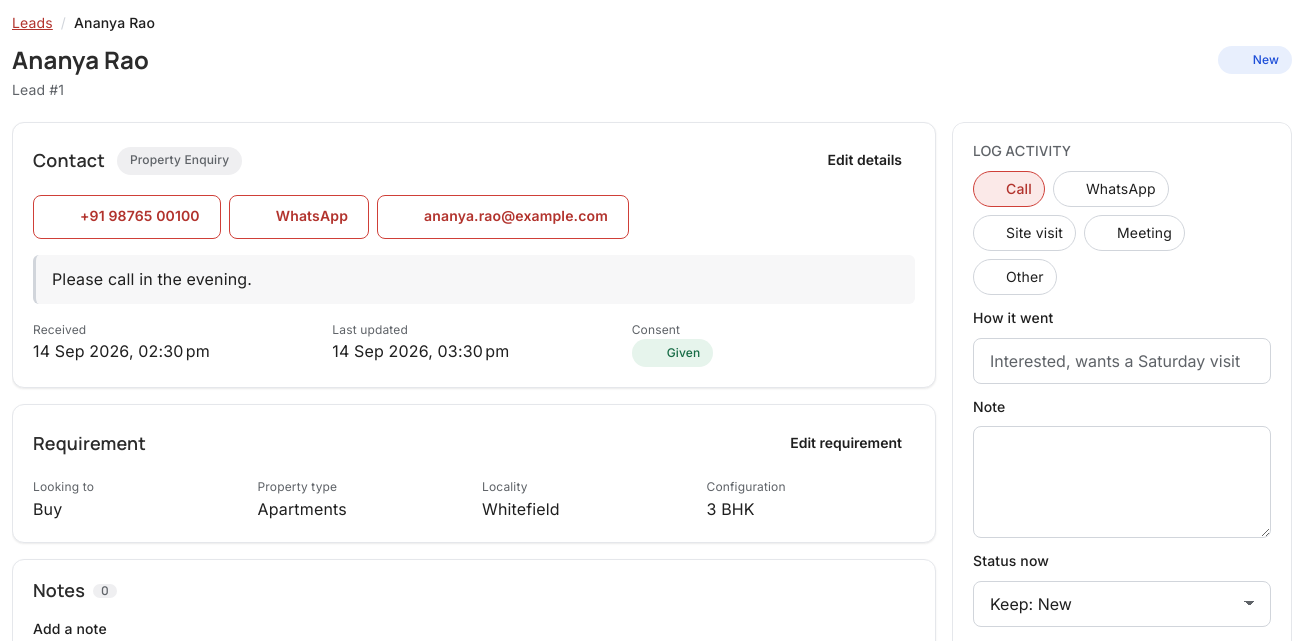
Test case: LeadDetailPage › corrects a mistyped number, sending only what changed
This screenshot has width=1292, height=641.
Expected: the heading "Ananya Rao" is shown, [12,46,149,75]
Click the button "Edit details" at (853, 161), box [791,143,915,179]
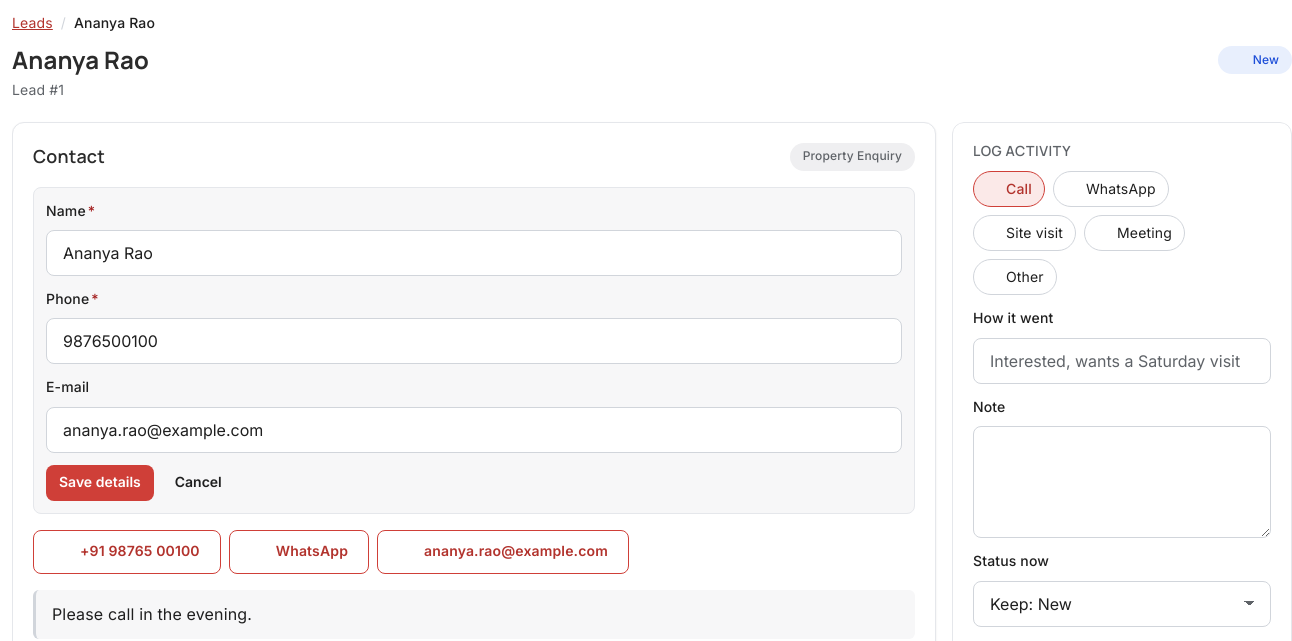
Replace the text in the field labelled "Phone*" with "98765 00199" at (474, 341), box [46,318,902,364]
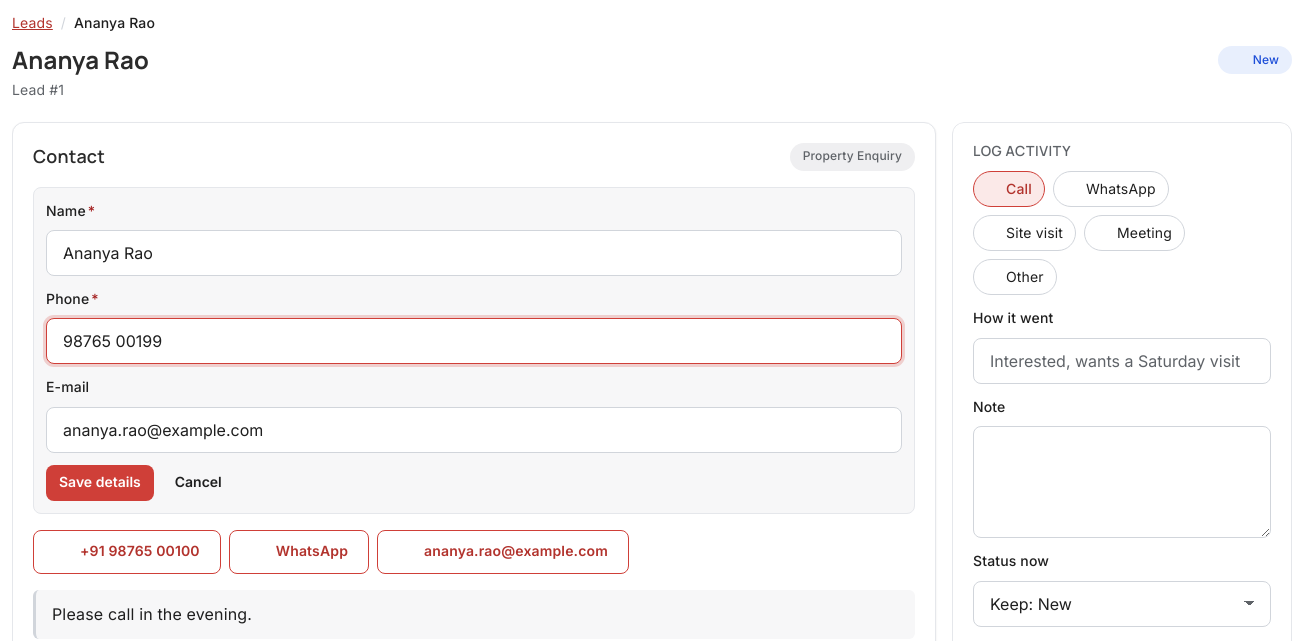
Click the button "Save details" at (100, 483), box [46,465,154,501]
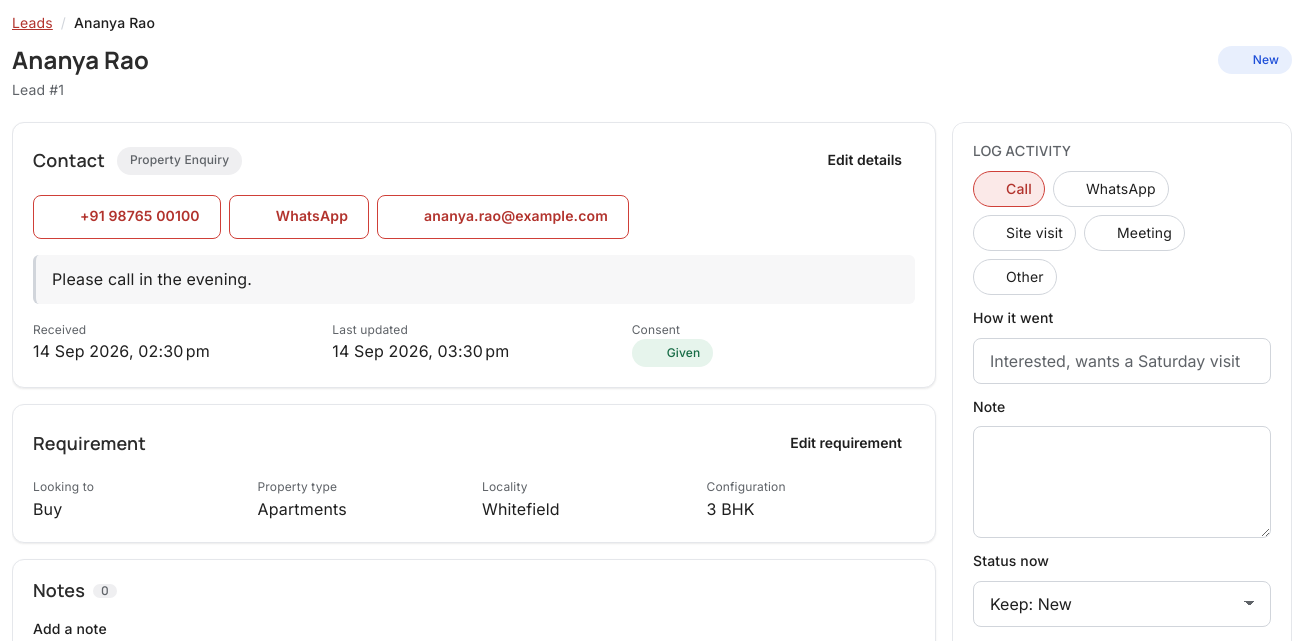
Expected: the button "Save details" is gone
